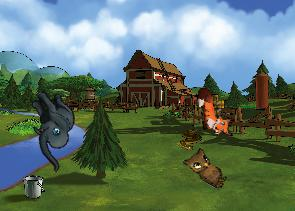elephant: (8, 83, 96, 172)
fox: (195, 84, 236, 140)
owl: (180, 143, 234, 190)
